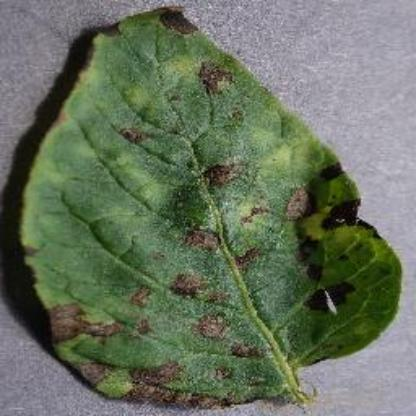Early-Blight: (22, 5, 402, 407)
